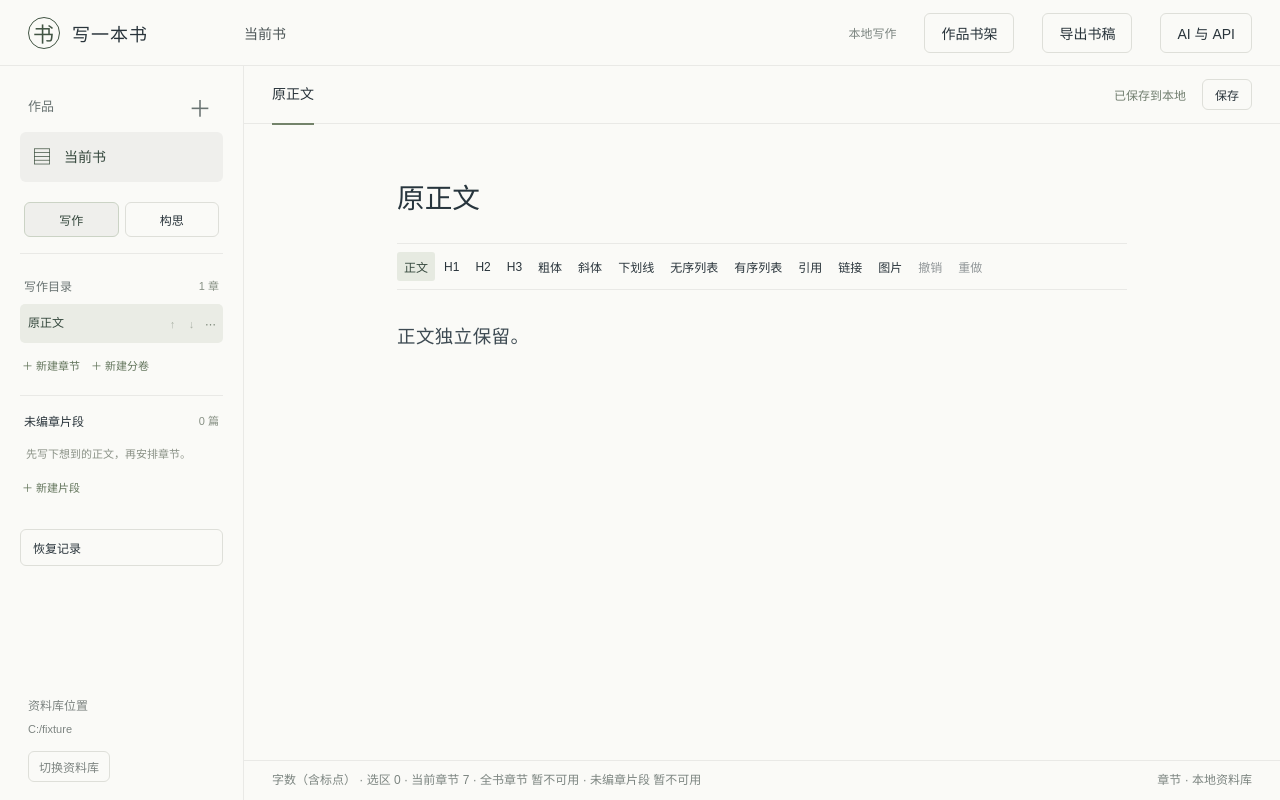
Test case: keeps unsaved conception on failed return and native close, then saves before returning to the unchanged manuscript
Step 1. Click the button "构思" → point(172, 220), box [124,202,219,237]
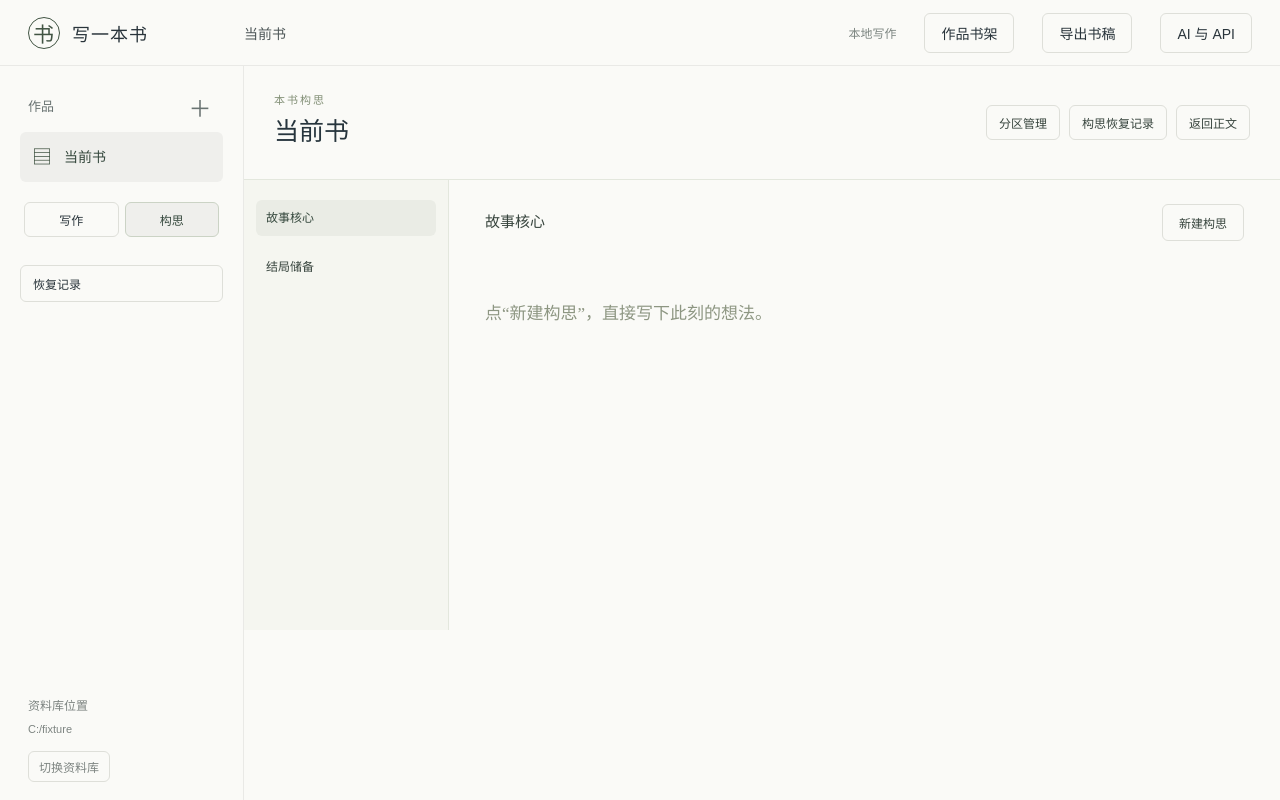
Now the button "新建构思" is shown
Step 2. Click the button "新建构思" → point(1203, 222), box [1162,204,1244,240]
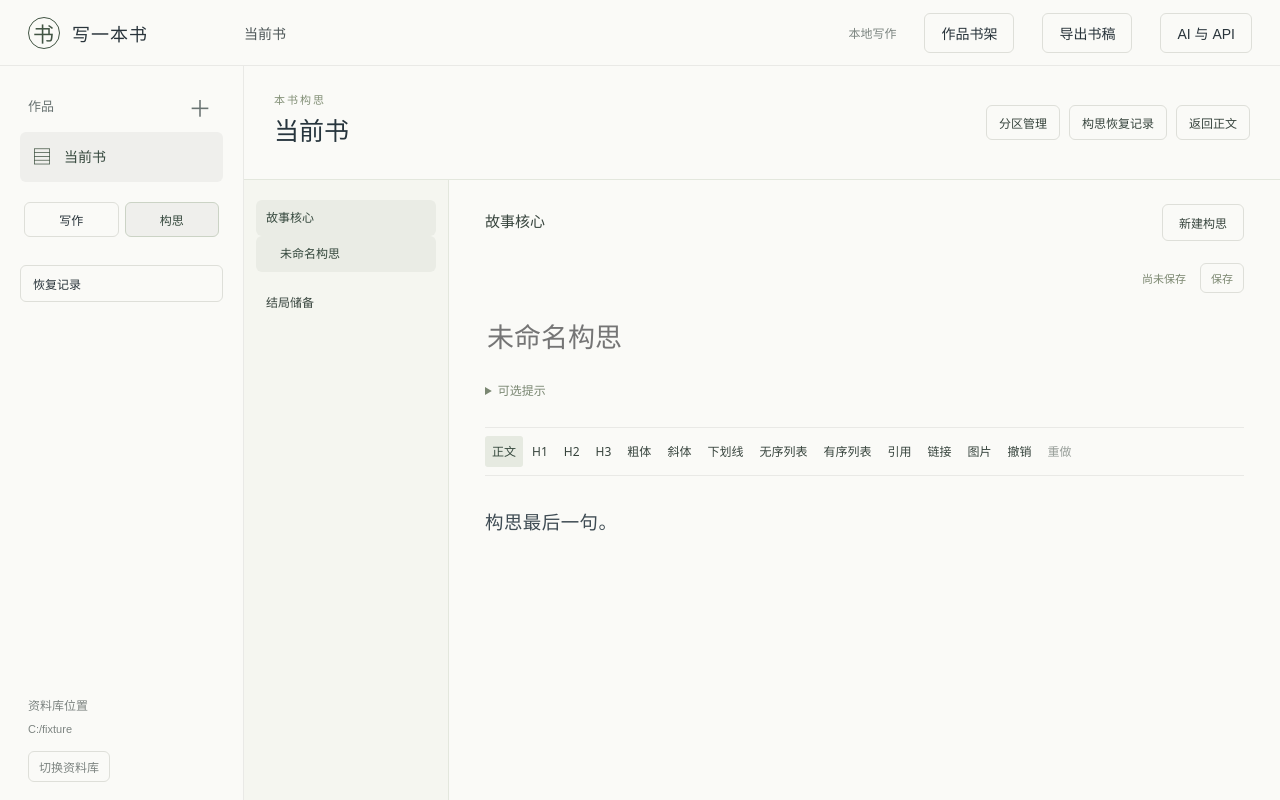
Now the button "返回正文" is shown
Step 3. Click the button "返回正文" → point(1213, 122), box [1176,105,1250,140]
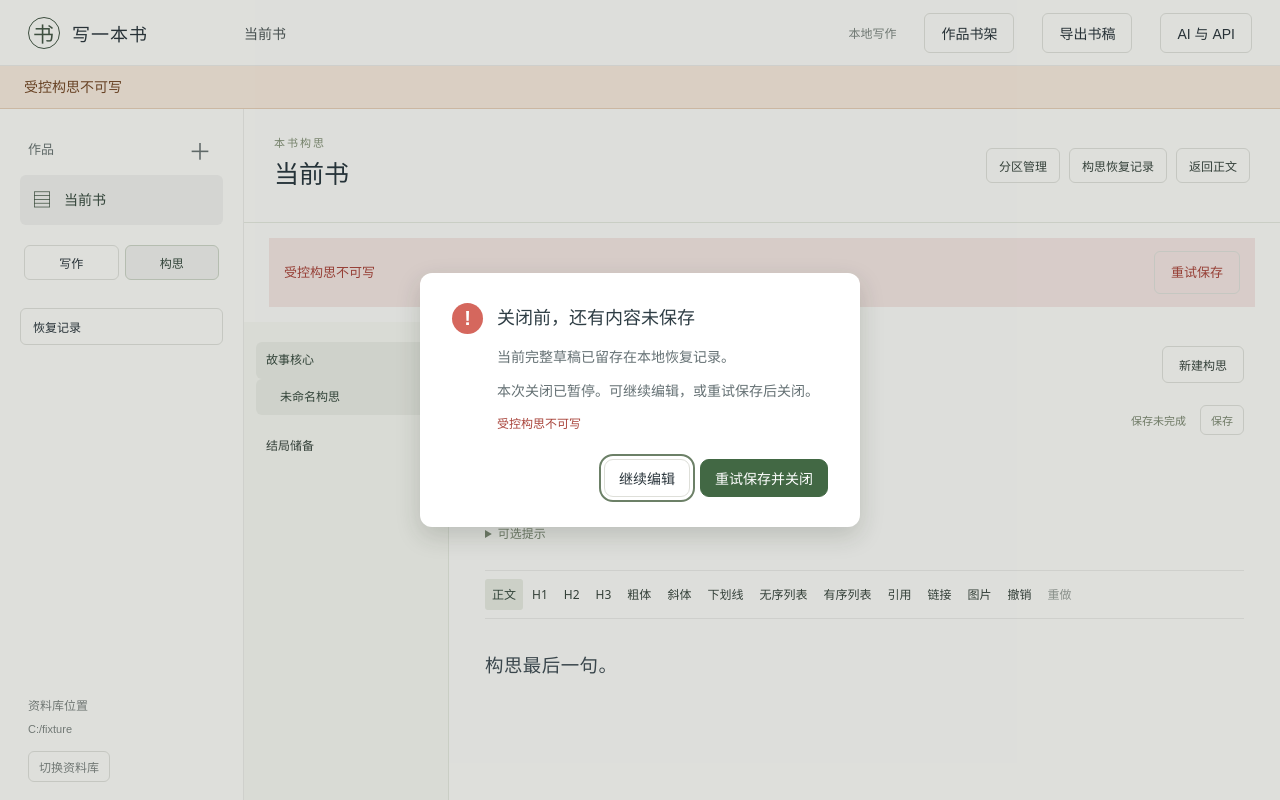
Now the field with id "conception-body" reads "构思最后一句。", box [485,656,618,676]
Now the dialog shows "关闭前，还有内容未保存", box [497,308,695,328]
Now the button "继续编辑" is shown
Step 4. Click the button "继续编辑" → point(647, 478), box [604,459,690,497]
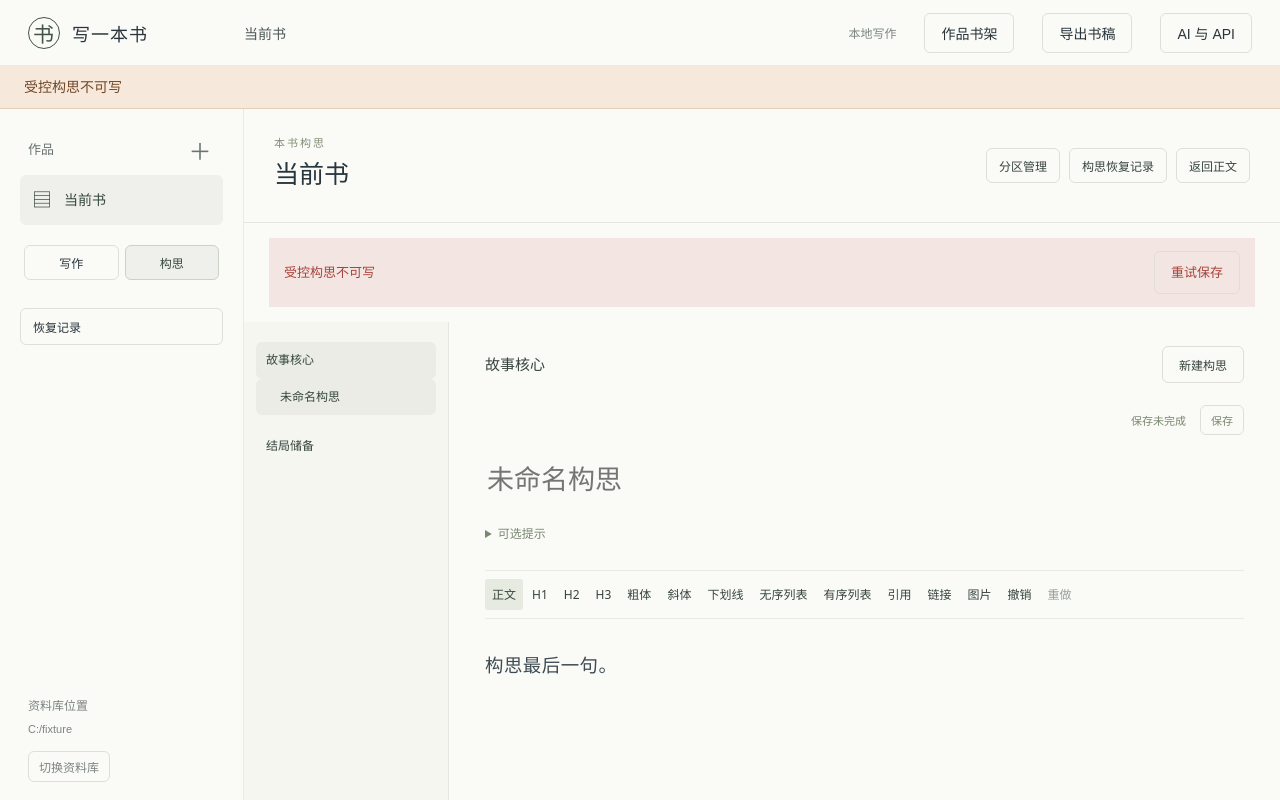
Step 5. Click the button "返回正文" → point(1213, 166), box [1176,148,1250,183]
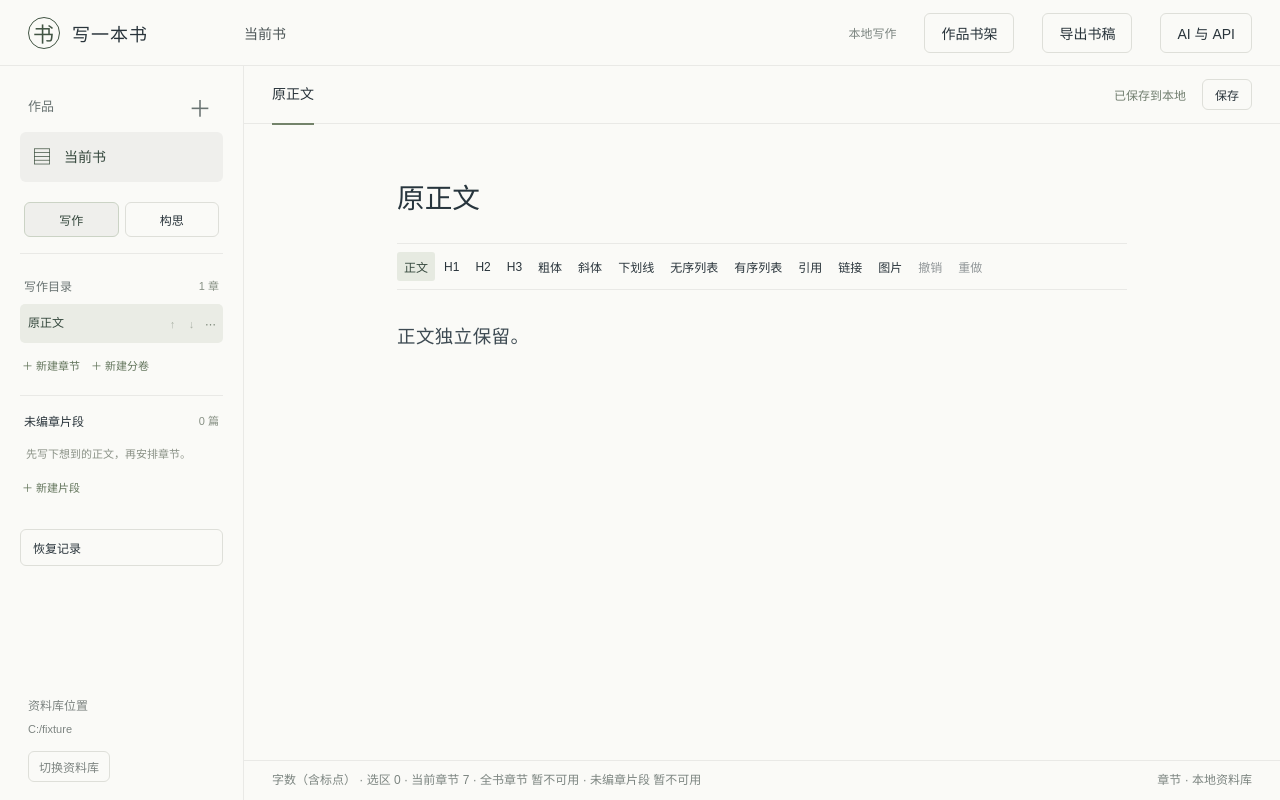
Now the field with id "chapter-body" reads "正文独立保留。", box [397,328,530,348]
